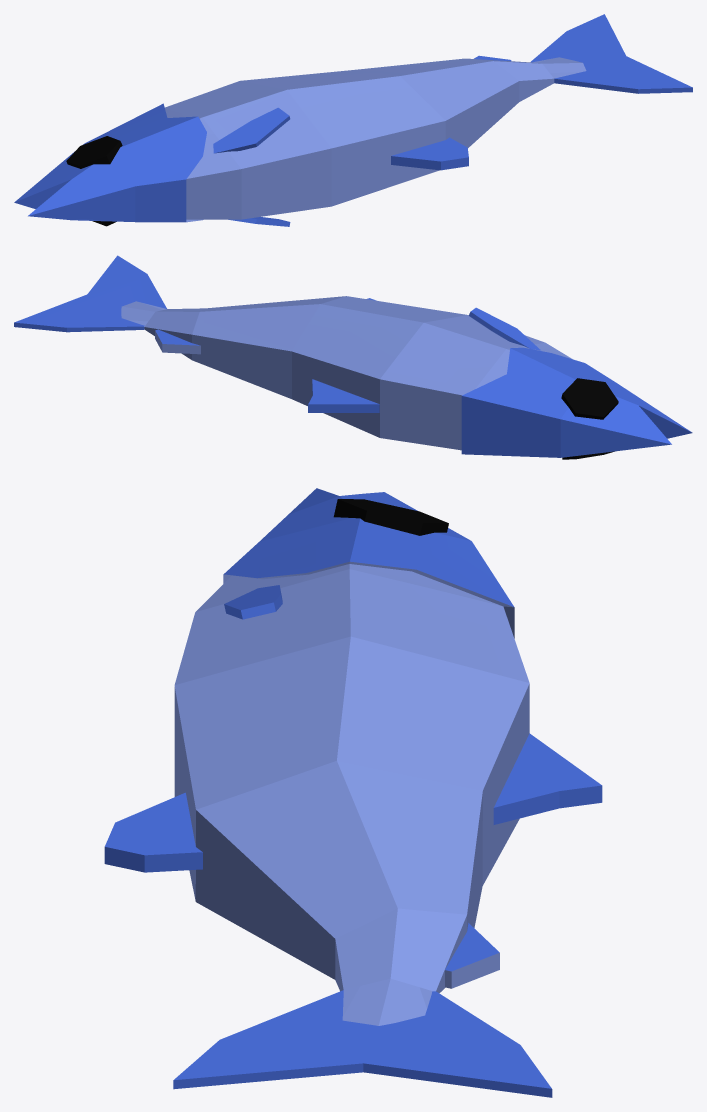
File: fish.fbx
3 renders of one model, top to bottom at view 1: azimuth 30°, elevation 25°; view 2: azimuth 150°, elevation 25°; view 3: azimuth 270°, elevation 25°, orthographic. The views are drawn at different scales.
Visible parts, largest first — view 1: Salmon; view 2: Salmon; view 3: Salmon.
Boxes of the visible parts, box(x1,y1,x2,y2) form: Salmon: box(14, 14, 692, 226); Salmon: box(14, 255, 692, 459); Salmon: box(104, 488, 602, 1097).
Bounding box in the file's own units: 152 × 26.63 × 52.98.
